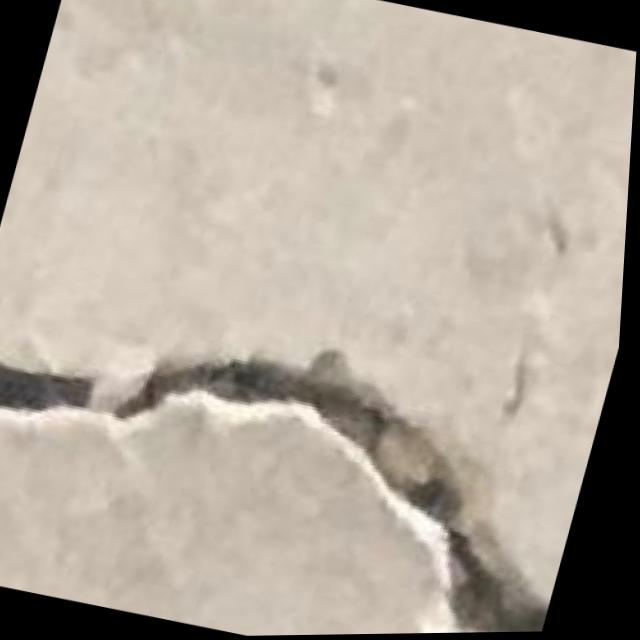Crack: (0, 269, 607, 631)
